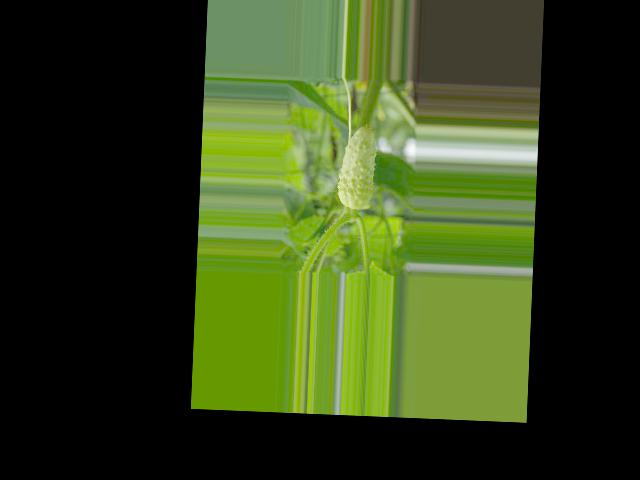cucumber: (336, 122, 376, 210)
